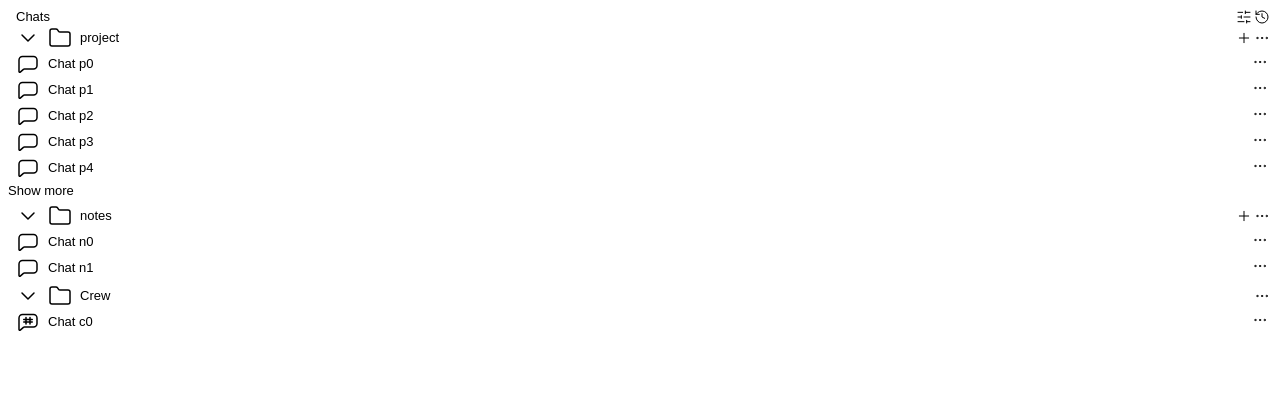
Group by Folder › shows five rows, then a Show more that reveals the rest and does not count as a choice
This screenshot has width=1280, height=400.
Check: the button with test id "recent-chat-p4" is shown, box [8,156,1272,180]
Click the button "Show more" at (41, 190), box [8,182,1272,200]
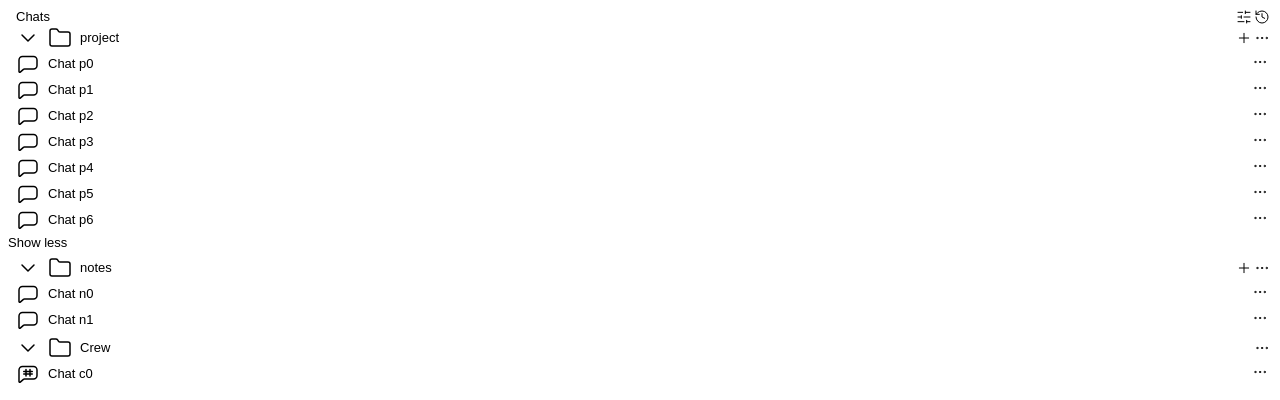
Check: the button with test id "recent-chat-p6" is shown, box [8,208,1272,232]
